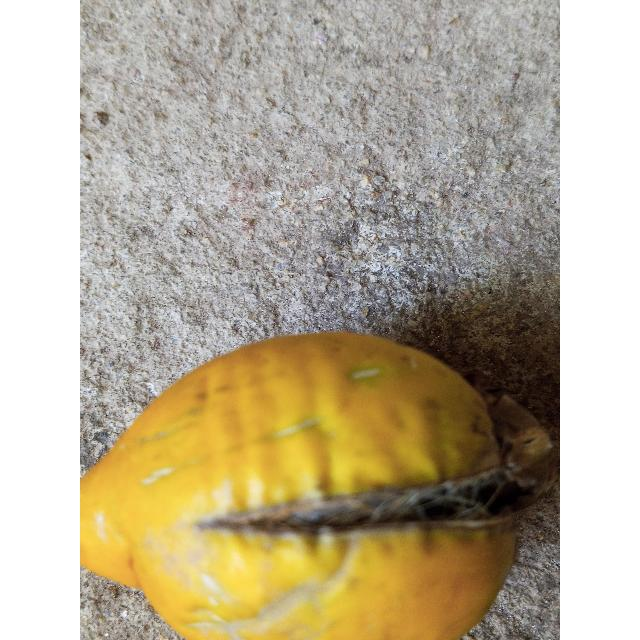damaged: (80, 332, 550, 640)
